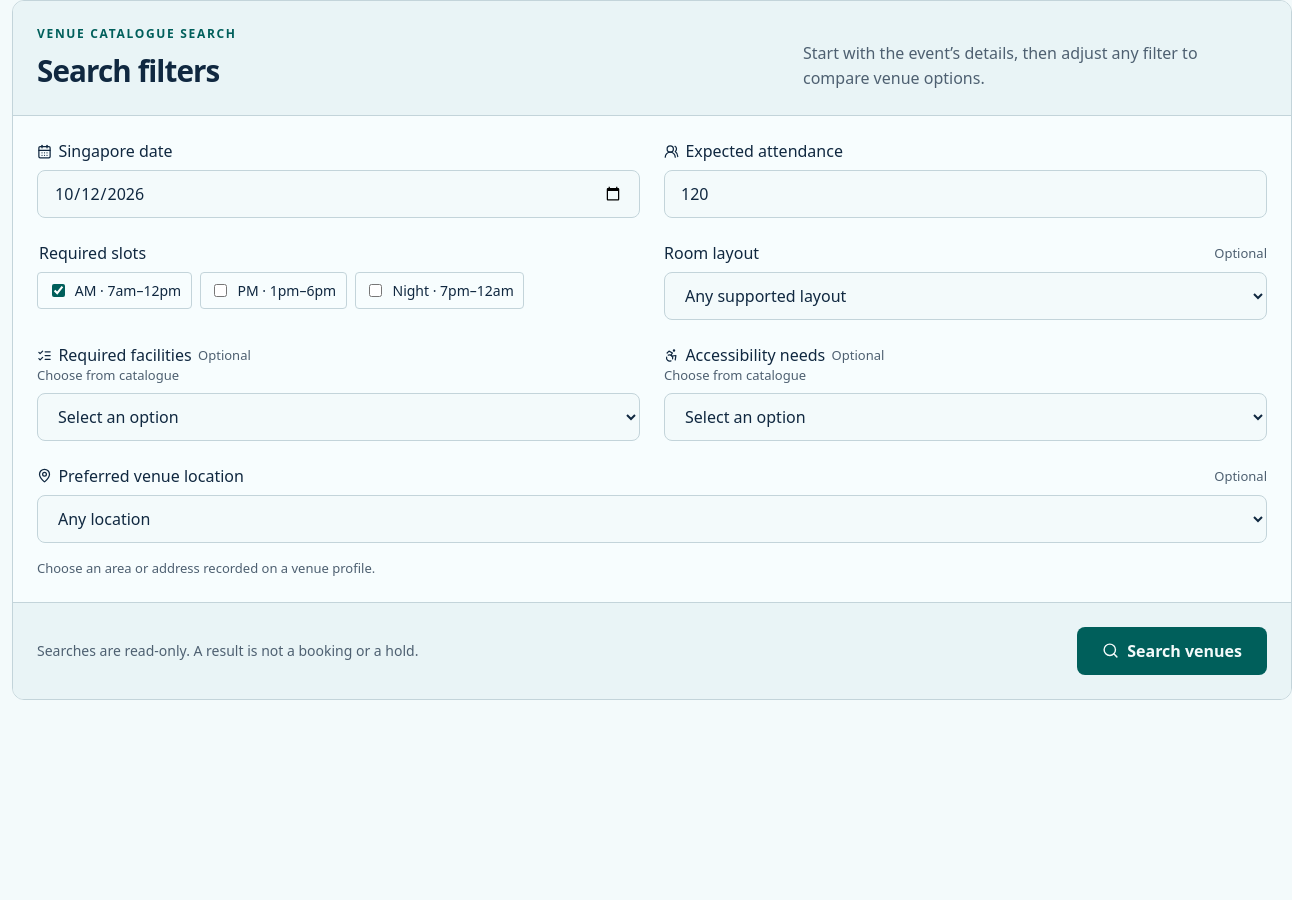
Test: [TC-SPL-71-03] retains applied controls and shows a clear empty result
Click the button "Search venues" at (1172, 651), box [1077,627,1267,675]
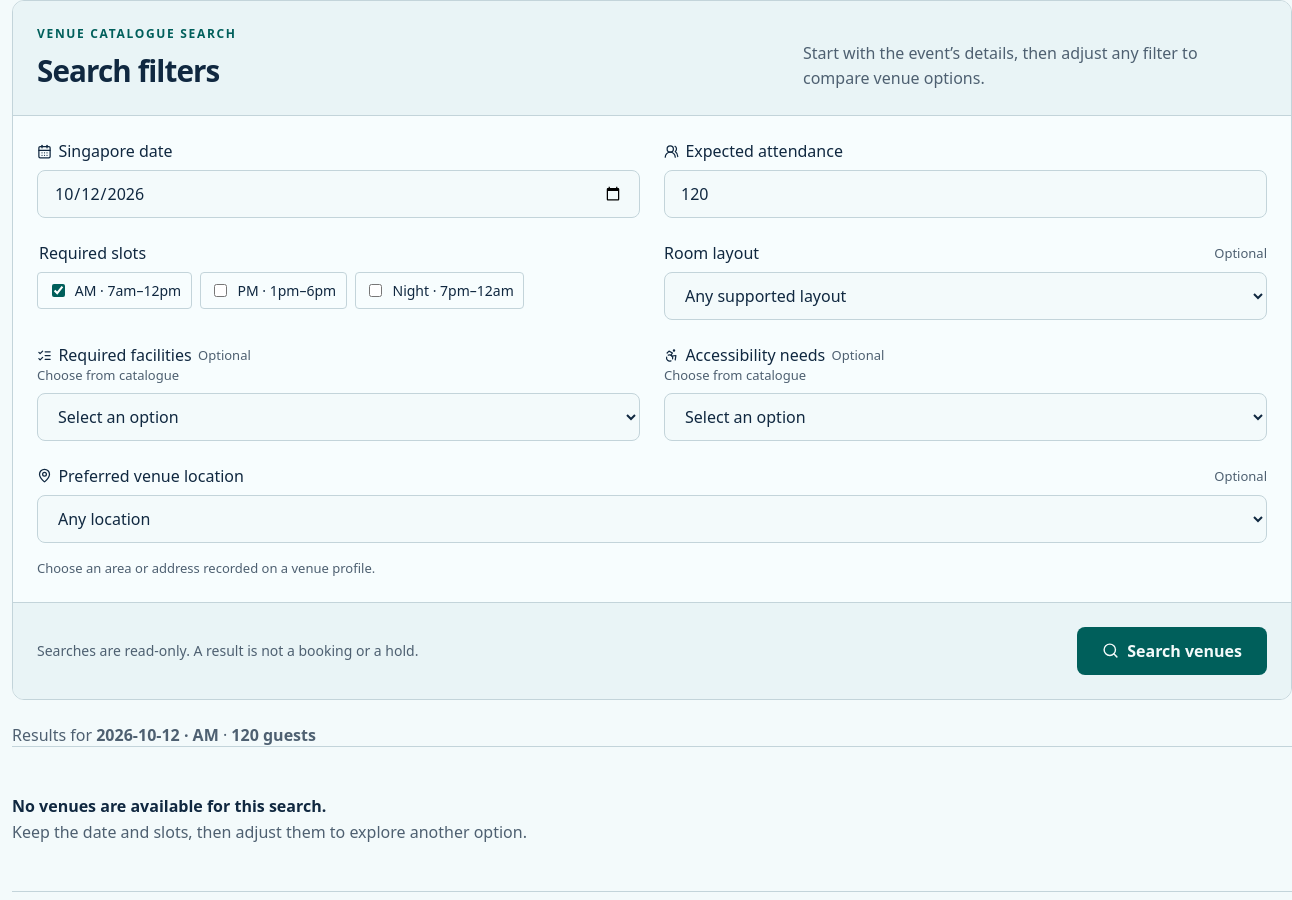
Expected: the date field labelled "Singapore date" holds "2026-10-12", [37,170,640,218]
Expected: the text "No venues are available for this search." is shown, [12,795,326,817]
